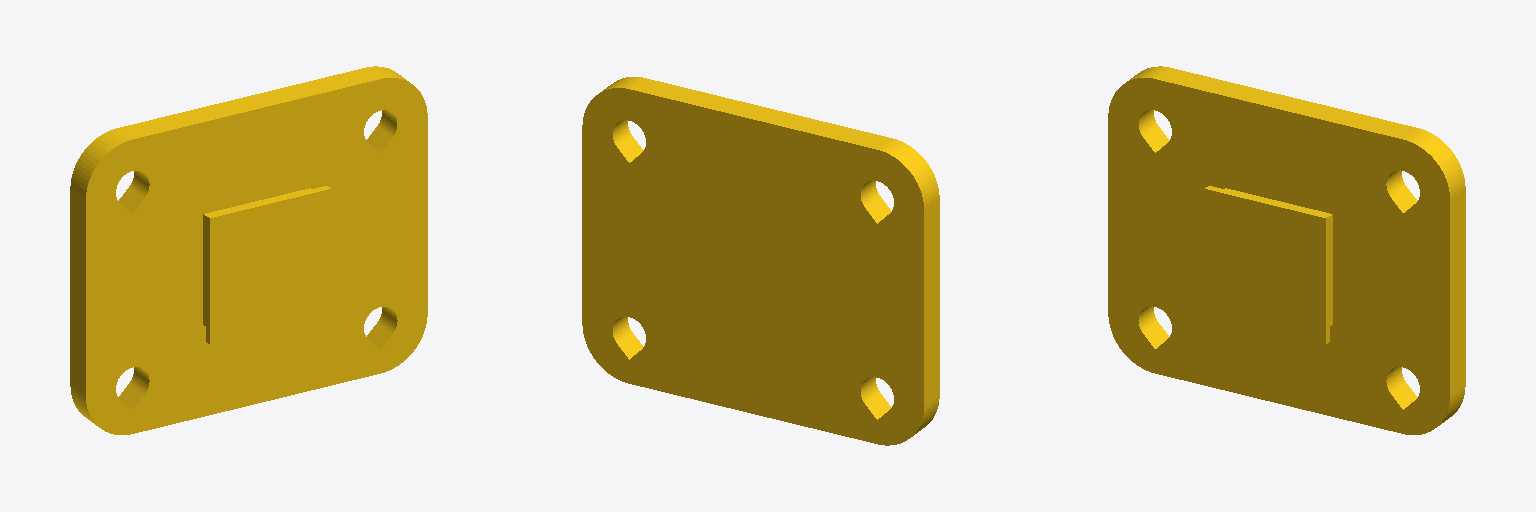
Rendered from base_visuals_waveshare_mounting_plate_so101_v2_mesh.obj.
3 renders of one model, left to right at view 1: azimuth 30°, elevation 25°; view 2: azimuth 150°, elevation 25°; view 3: azimuth 330°, elevation 25°, orthographic.
Bounding box in the file's own units: 0.051 × 0.042 × 0.0076.